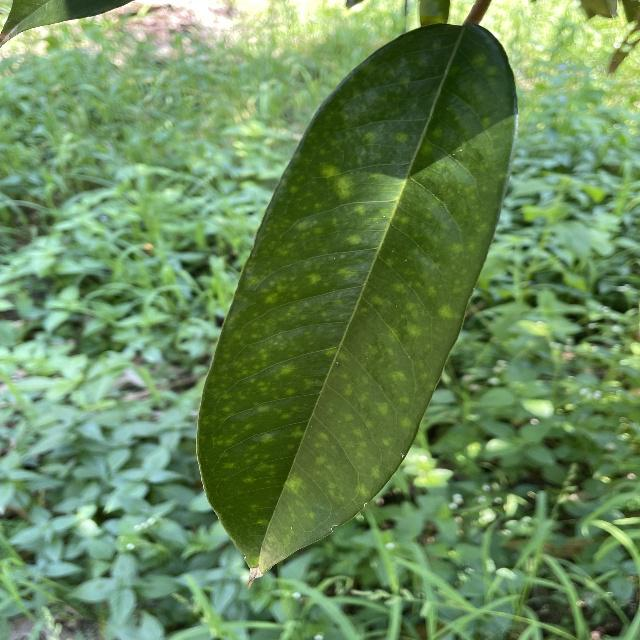Leaf Spot: (185, 19, 529, 592)
